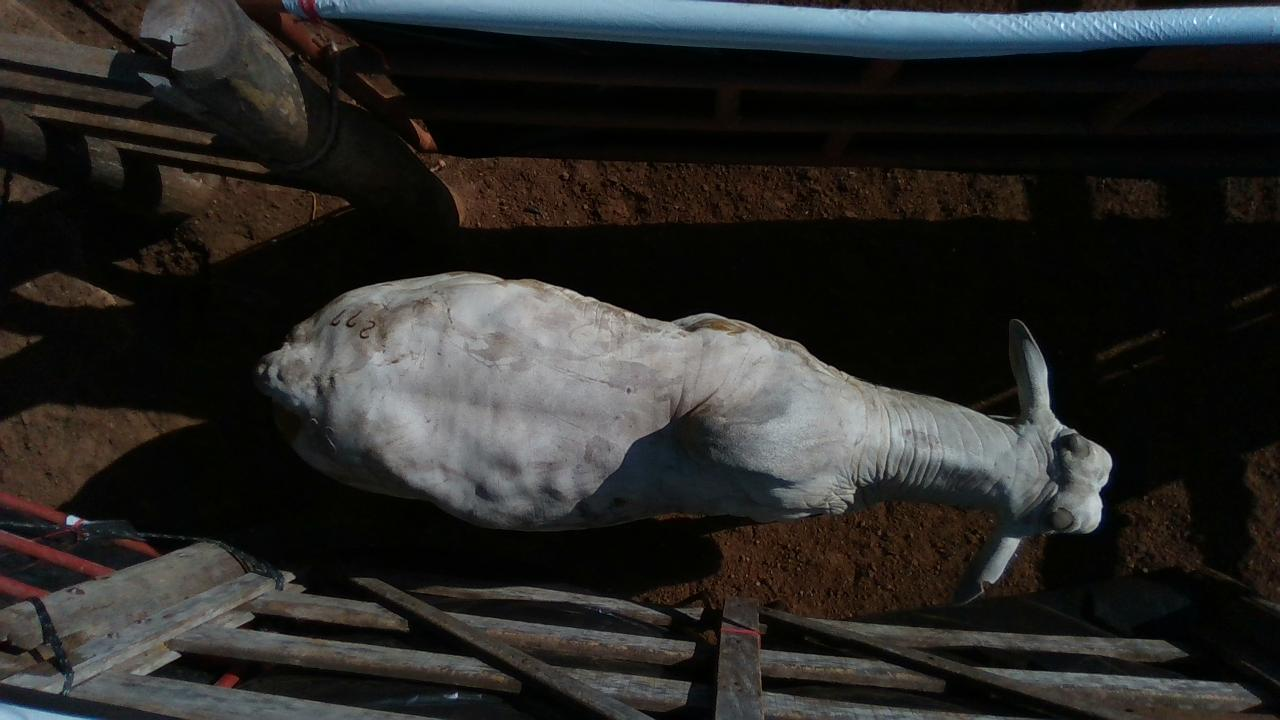cattle: (252, 268, 1114, 605)
